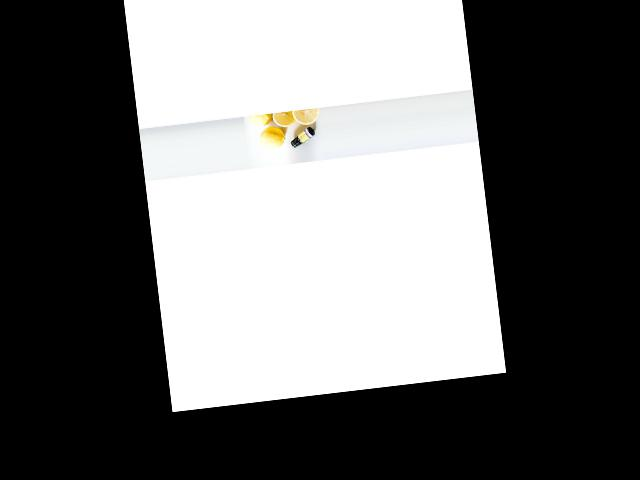lemon: (258, 127, 285, 147)
